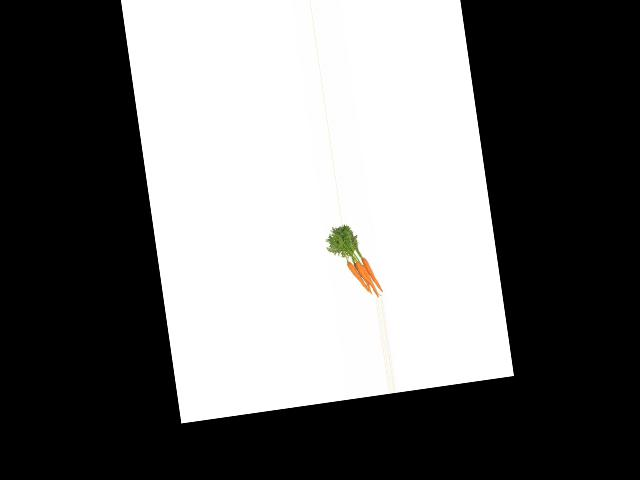carrot: (359, 253, 387, 295)
